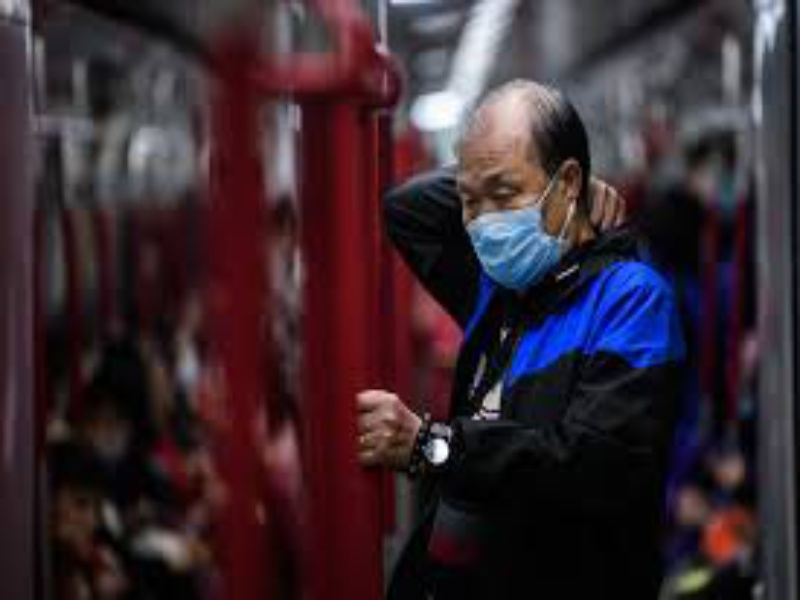ManaoArotava: (438, 84, 596, 303)
